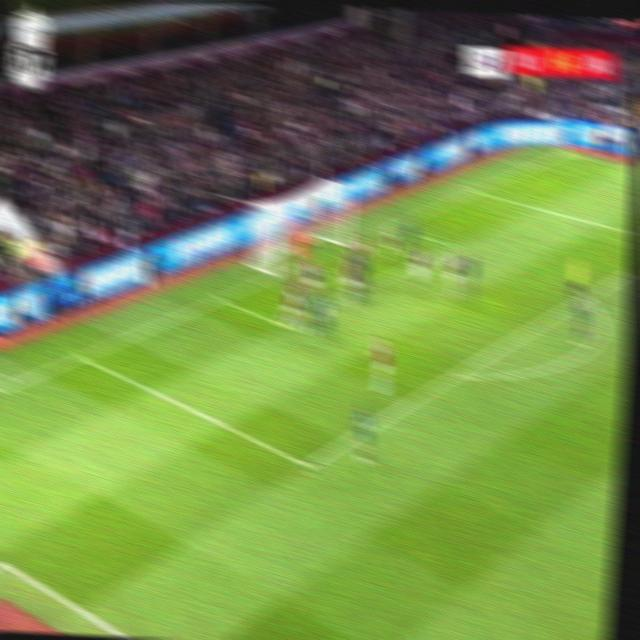bigarea_bottom_inner: (295, 450, 318, 477)
bigarea_bottom_outter: (72, 348, 91, 364)
bigarea_top_outter: (469, 184, 485, 196)
bottom_arc_area_intersection: (446, 365, 466, 384)
corner: (557, 148, 574, 157)
smallarea_bottom_outter: (211, 290, 231, 306)
smallarea_top_inner: (439, 237, 464, 256)
smallarea_top_outter: (381, 220, 400, 233)
top_arc_area_intersection: (579, 289, 596, 304)
